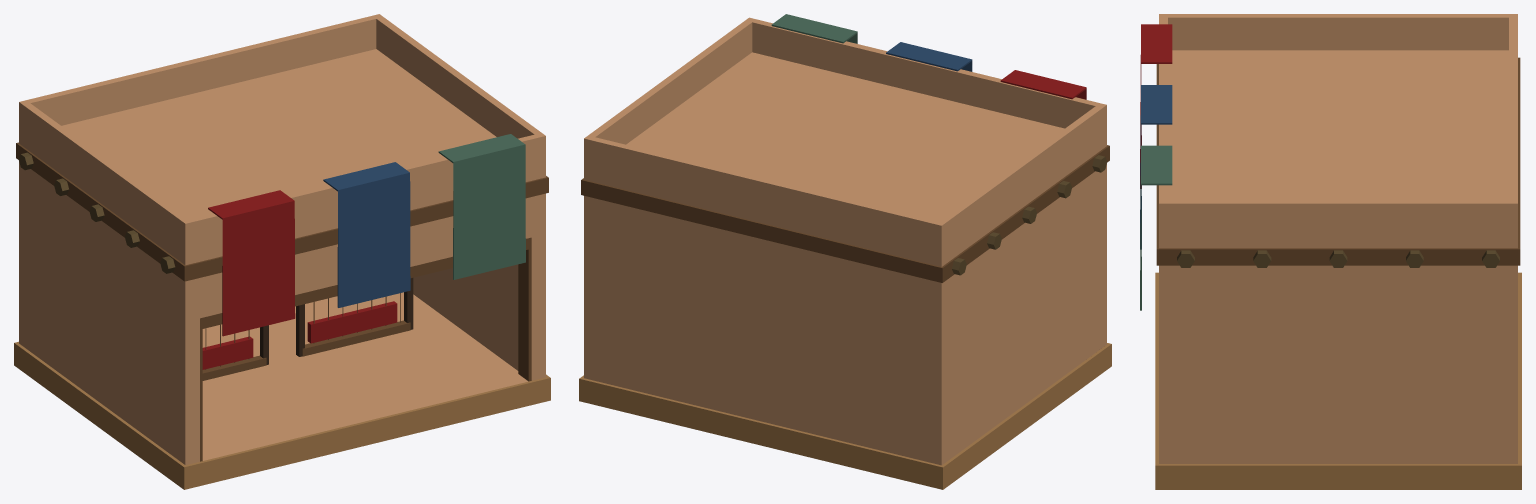
File: Workshop_MiddleEast.fbx
3 renders of one model, left to right at view 1: azimuth 30°, elevation 25°; view 2: azimuth 150°, elevation 25°; view 3: azimuth 270°, elevation 25°, orthographic. The views are drawn at different scales.
Visible parts, largest first — view 1: Workshop_MiddleEast_Mesh; view 2: Workshop_MiddleEast_Mesh; view 3: Workshop_MiddleEast_Mesh.
Boxes of the visible parts, box(x1,y1,x2,y2) form: Workshop_MiddleEast_Mesh: box(14, 14, 550, 489); Workshop_MiddleEast_Mesh: box(579, 14, 1111, 489); Workshop_MiddleEast_Mesh: box(1140, 14, 1521, 489).
Bounding box in the file's own units: 5.24 × 3.56 × 4.25.
